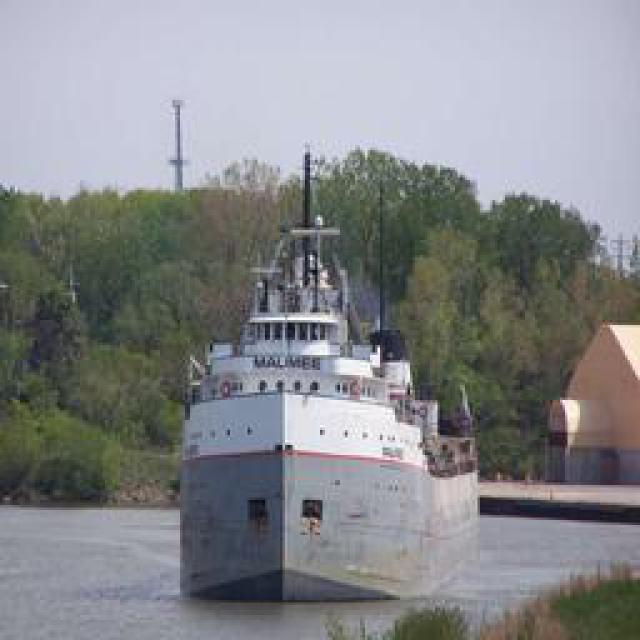Ship: (178, 147, 483, 600)
